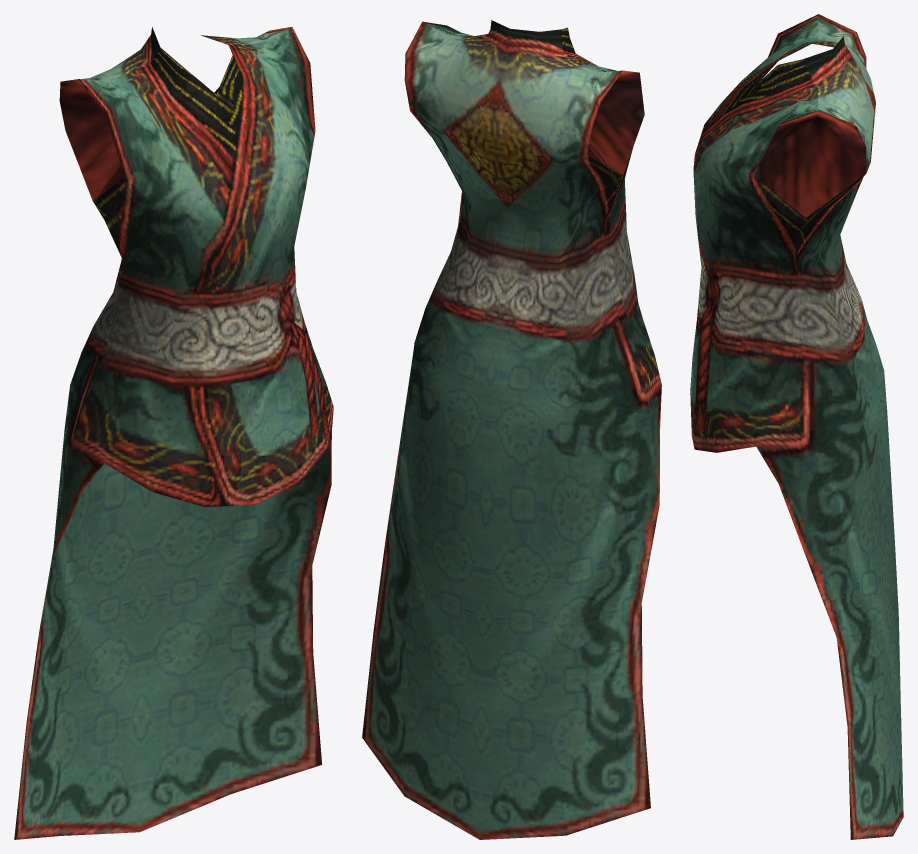
The model's file is clothes_03_ba.glb.
The picture shows the model from 3 angles, left to right: view 1: azimuth 30°, elevation 25°; view 2: azimuth 150°, elevation 25°; view 3: azimuth 270°, elevation 25°; orthographic projection. The views are drawn at different scales.
Parts seen in each view (by area): view 1: clothes_03_ba, clothes_03_ba_2s; view 2: clothes_03_ba_2s, clothes_03_ba; view 3: clothes_03_ba, clothes_03_ba_2s.
Part boxes in pixels (left/top/right/bottom): clothes_03_ba: left=59, top=27, right=333, bottom=507; clothes_03_ba_2s: left=14, top=385, right=333, bottom=839; clothes_03_ba_2s: left=362, top=343, right=661, bottom=839; clothes_03_ba: left=404, top=20, right=654, bottom=386; clothes_03_ba: left=690, top=14, right=883, bottom=452; clothes_03_ba_2s: left=752, top=370, right=903, bottom=839.
Bounding box in the file's own units: 0.5371 × 1.4 × 0.3469.
2 materials, 2 textured.
